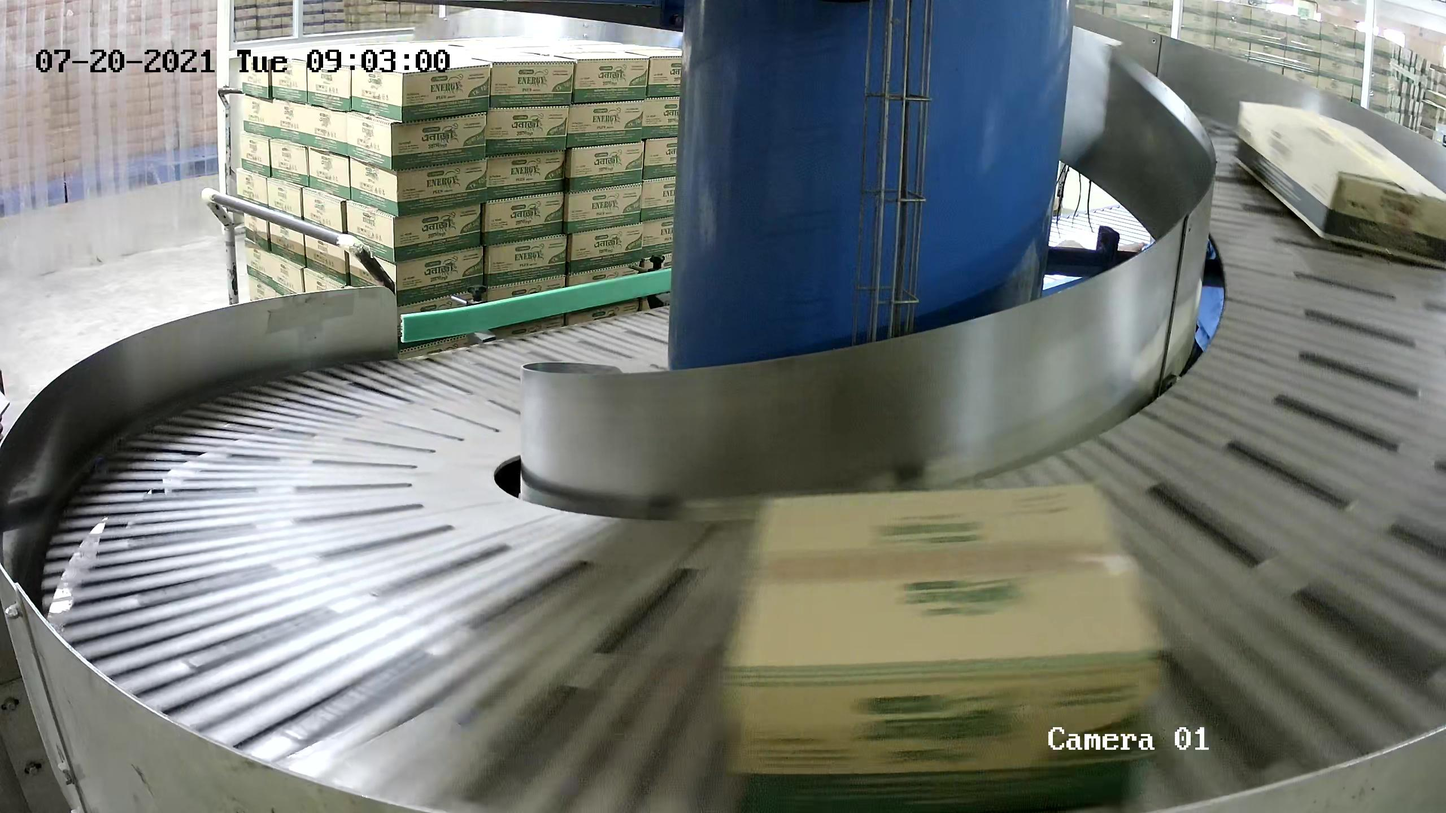Box: (719, 476, 1171, 813), (1230, 98, 1446, 272)
